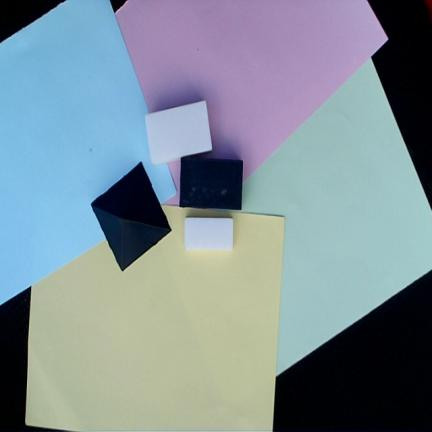Paralelepipedo: (144, 99, 213, 165), (180, 157, 244, 210), (184, 217, 233, 250)
Piramide: (91, 161, 172, 273)
